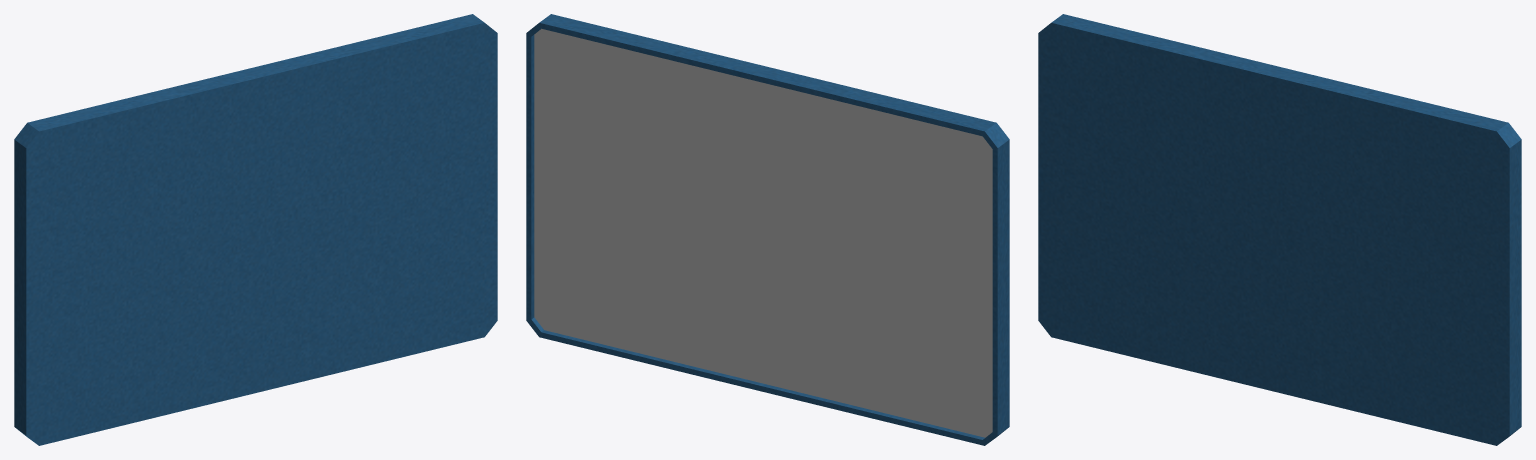
File: MapHolder.fbx
3 renders of one model, left to right at view 1: azimuth 30°, elevation 25°; view 2: azimuth 150°, elevation 25°; view 3: azimuth 330°, elevation 25°, orthographic.
Visible parts, largest first — view 1: MapHolder; view 2: MapHolder; view 3: MapHolder.
Boxes of the visible parts, x1,y1,x2,y2 form: MapHolder: (14, 14, 497, 445); MapHolder: (526, 14, 1009, 445); MapHolder: (1038, 14, 1521, 445).
Bounding box in the file's own units: 1.82 × 0.08 × 1.16.
